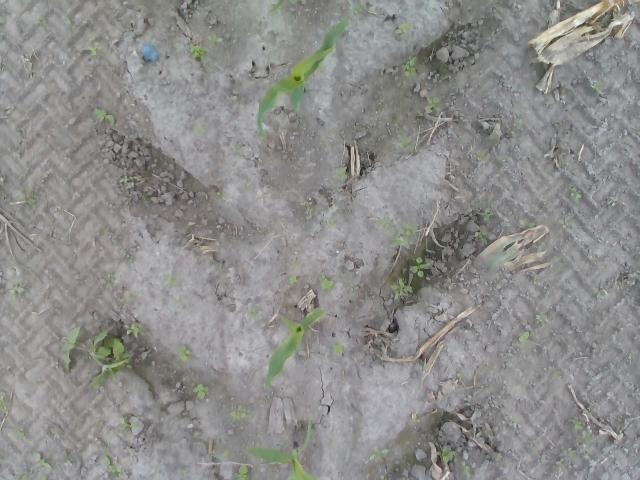Maize: (258, 17, 350, 141), (266, 308, 323, 385), (244, 421, 316, 480)
Weeds: (62, 320, 146, 392), (383, 216, 418, 250), (480, 248, 519, 270), (100, 452, 129, 480), (570, 416, 594, 448), (402, 256, 432, 279), (390, 276, 415, 302), (556, 446, 580, 472), (420, 88, 442, 114), (15, 187, 38, 210), (190, 40, 210, 64), (270, 0, 300, 15), (229, 406, 257, 422), (118, 416, 144, 432), (399, 54, 417, 77), (94, 106, 112, 129), (398, 134, 418, 152), (392, 20, 412, 38), (369, 447, 391, 463), (516, 326, 534, 345), (211, 448, 233, 462), (175, 344, 192, 362), (475, 228, 492, 246), (193, 382, 209, 401), (303, 199, 315, 224), (233, 463, 250, 480), (104, 271, 120, 289), (319, 274, 335, 292), (208, 32, 226, 48), (440, 446, 456, 464), (568, 183, 584, 200), (336, 166, 352, 182), (88, 41, 104, 57), (592, 286, 610, 300), (8, 280, 25, 294), (594, 55, 608, 72), (534, 310, 546, 329), (163, 272, 177, 288), (480, 208, 496, 222), (245, 304, 258, 321), (36, 15, 49, 32), (331, 339, 346, 353), (472, 150, 489, 162), (288, 274, 304, 286), (352, 3, 366, 16), (461, 464, 474, 478), (14, 423, 24, 440), (520, 219, 536, 229), (34, 454, 49, 464), (550, 368, 562, 380), (234, 142, 242, 160), (118, 174, 128, 188), (0, 390, 7, 410), (0, 14, 11, 26), (192, 126, 208, 134), (592, 80, 602, 92), (125, 254, 136, 264), (631, 270, 640, 282), (173, 296, 184, 304), (496, 452, 504, 462), (628, 350, 636, 360), (424, 282, 434, 289), (326, 218, 336, 225), (412, 416, 421, 423), (19, 475, 31, 480), (544, 14, 551, 22)
